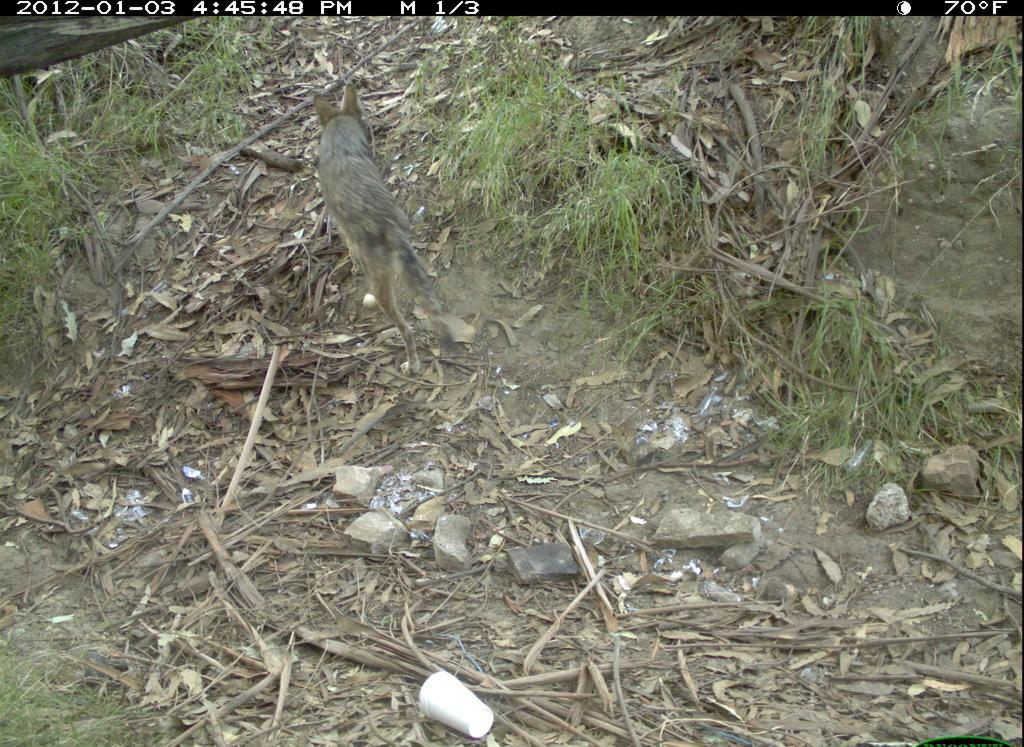coyote: (313, 77, 478, 377)
